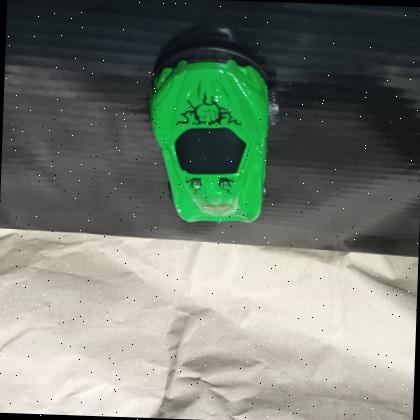Car: (140, 38, 284, 232)
